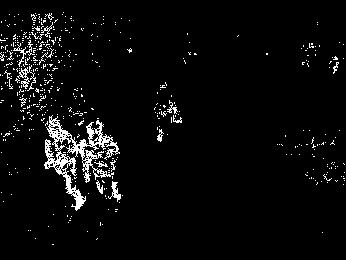person: (43, 118, 87, 213), (82, 119, 123, 210), (151, 79, 184, 143)
